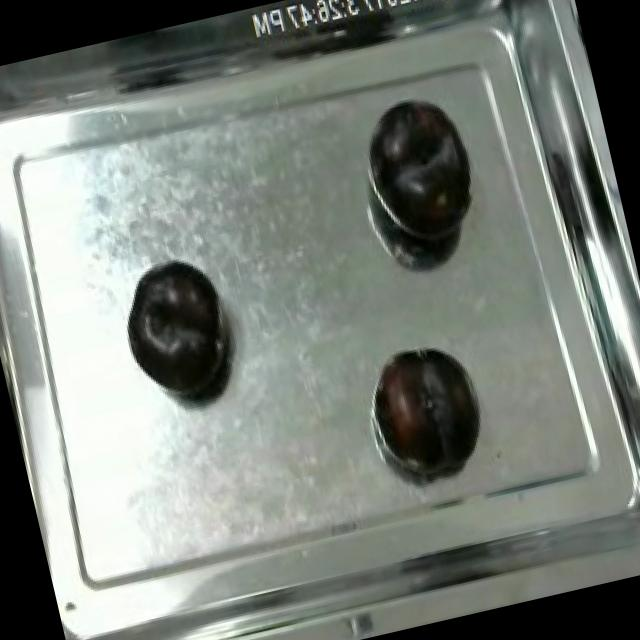Fruit: (352, 80, 492, 260), (108, 245, 246, 418), (363, 332, 495, 479)
